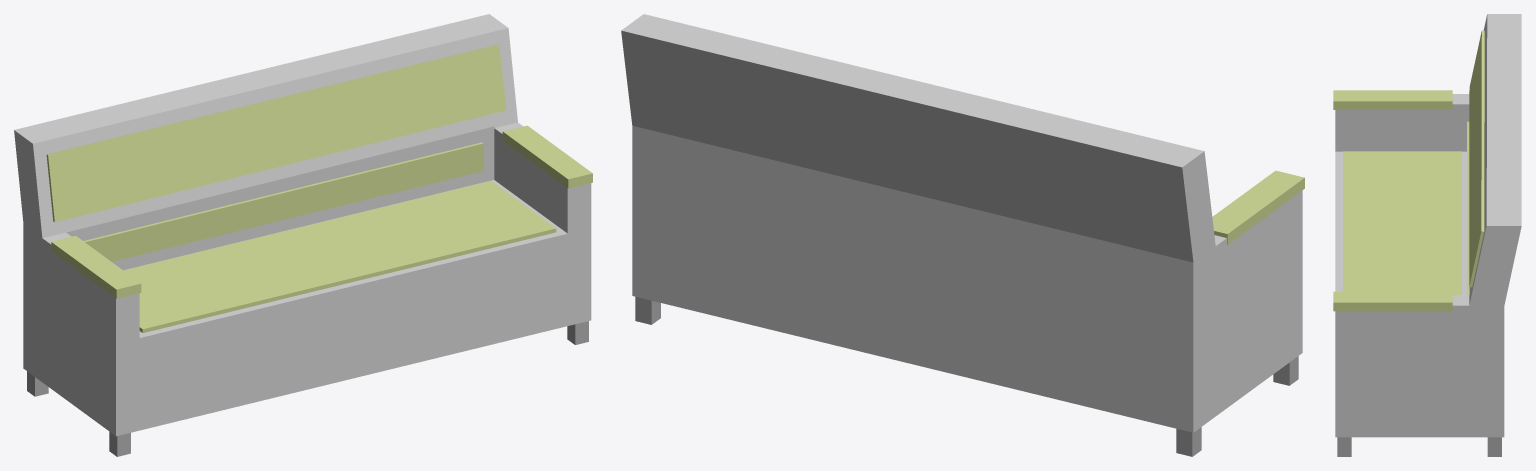
Rendered from sofa1.fbx.
3 views of the same model, side by side, from view 1: azimuth 30°, elevation 25°; view 2: azimuth 150°, elevation 25°; view 3: azimuth 270°, elevation 25° (orthographic). The views are drawn at different scales.
Parts seen in each view (by area): view 1: Cube_1; view 2: Cube_1; view 3: Cube_1.
Part boxes in pixels (bbox=[...]): Cube_1: bbox=[14, 14, 592, 456]; Cube_1: bbox=[621, 14, 1304, 456]; Cube_1: bbox=[1333, 14, 1521, 456].
Size of the model in its own units: 75.69 by 38.52 by 28.4.
